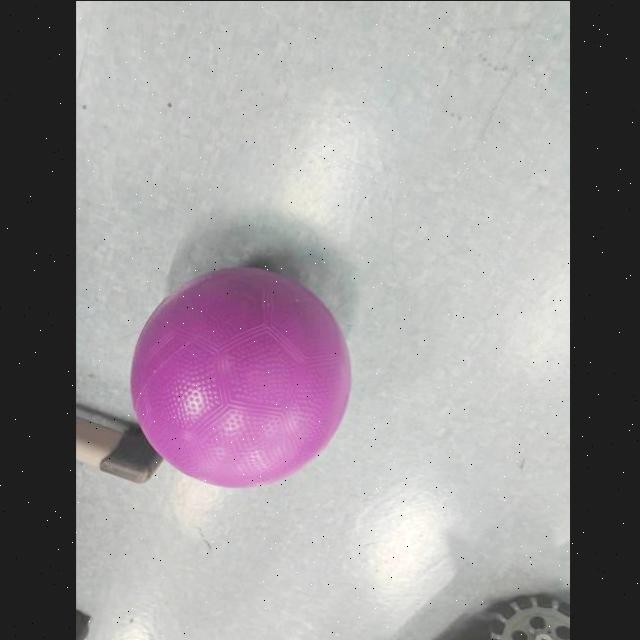P: (123, 262, 354, 492)
